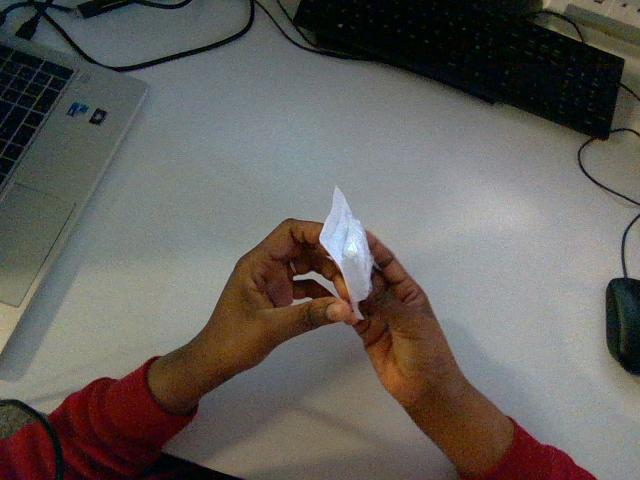gauze: (320, 186, 372, 318)
